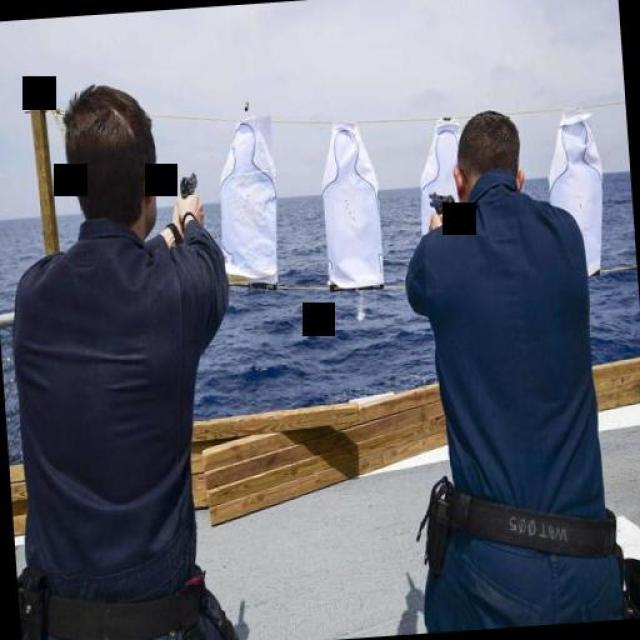gun: (425, 182, 457, 224), (176, 166, 199, 205)
